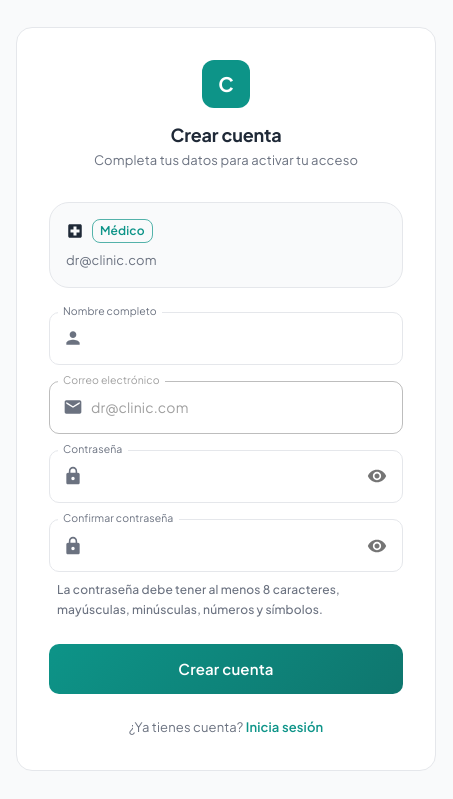
RegisterPage › shows mismatch error when passwords do not match
This screenshot has width=453, height=799.
Check: the heading "Crear cuenta" is shown, box [170,123,282,146]
Type "Ana Torres" into the field labelled "Nombre completo" at (247, 338), box [91,312,403,365]
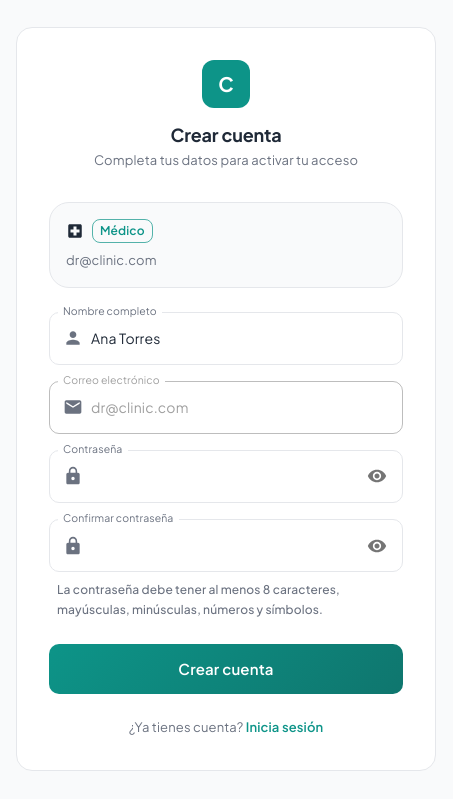
Type "Str0ng!pass" into the password field labelled "Contraseña" at (222, 476), box [91,450,354,503]
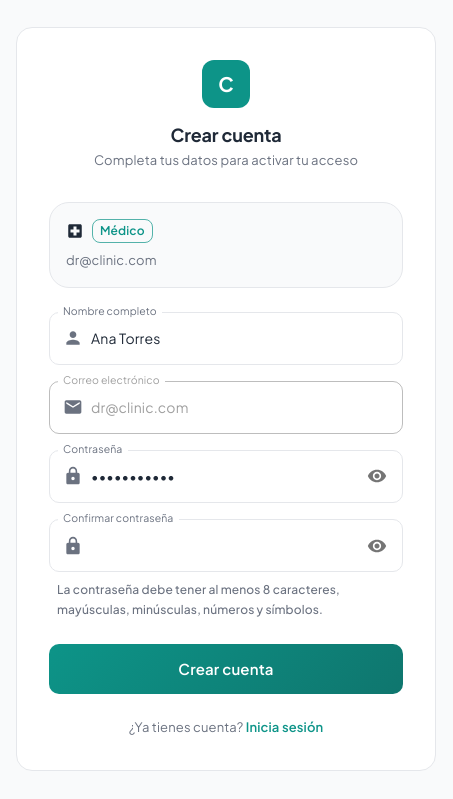
Type "Different1!" into the password field labelled "Confirmar contraseña" at (222, 546), box [91,519,354,572]
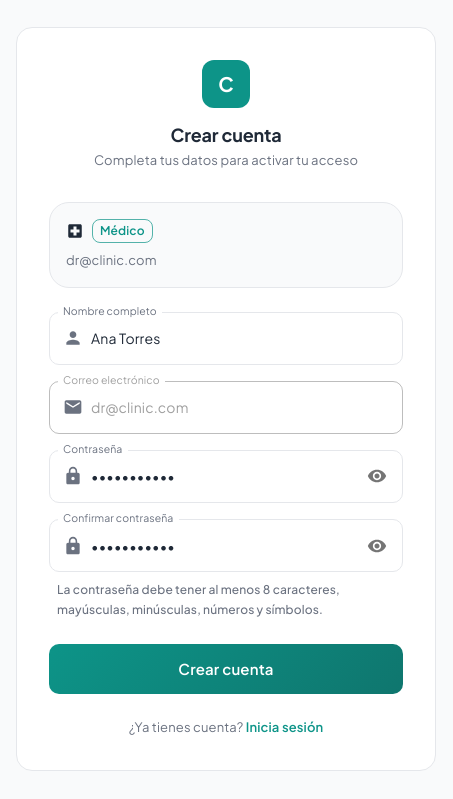
Click the button "Crear cuenta" at (226, 669), box [49,644,403,694]
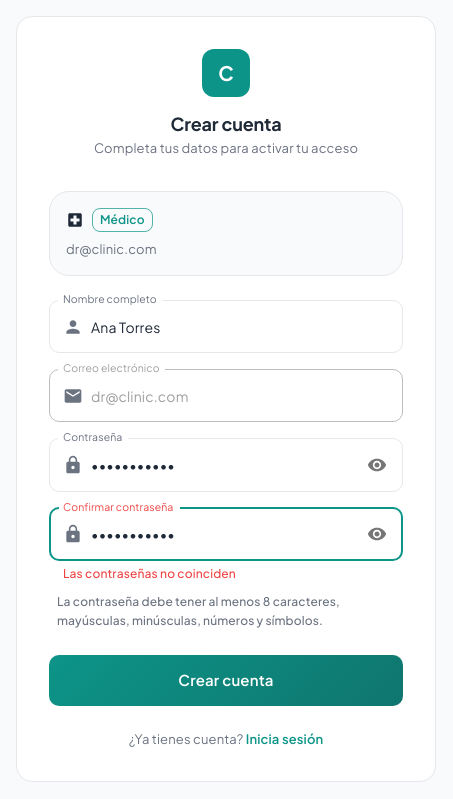
Check: the text "Las contraseñas no coinciden" is shown, box [63,566,236,581]
